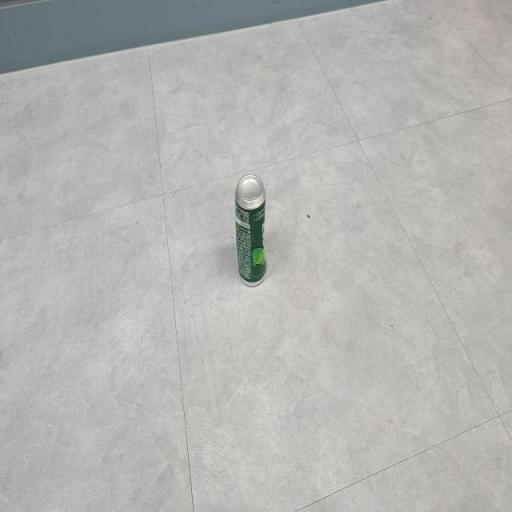metal: (224, 167, 274, 287)
